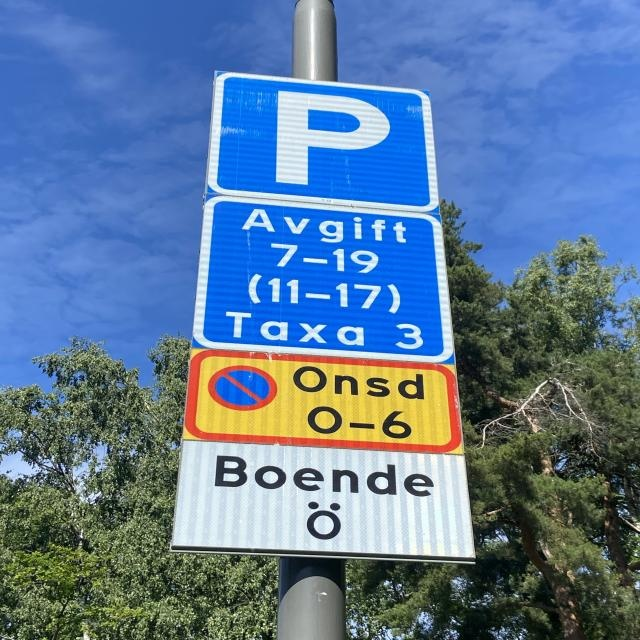P-skylt: (200, 64, 448, 221)
